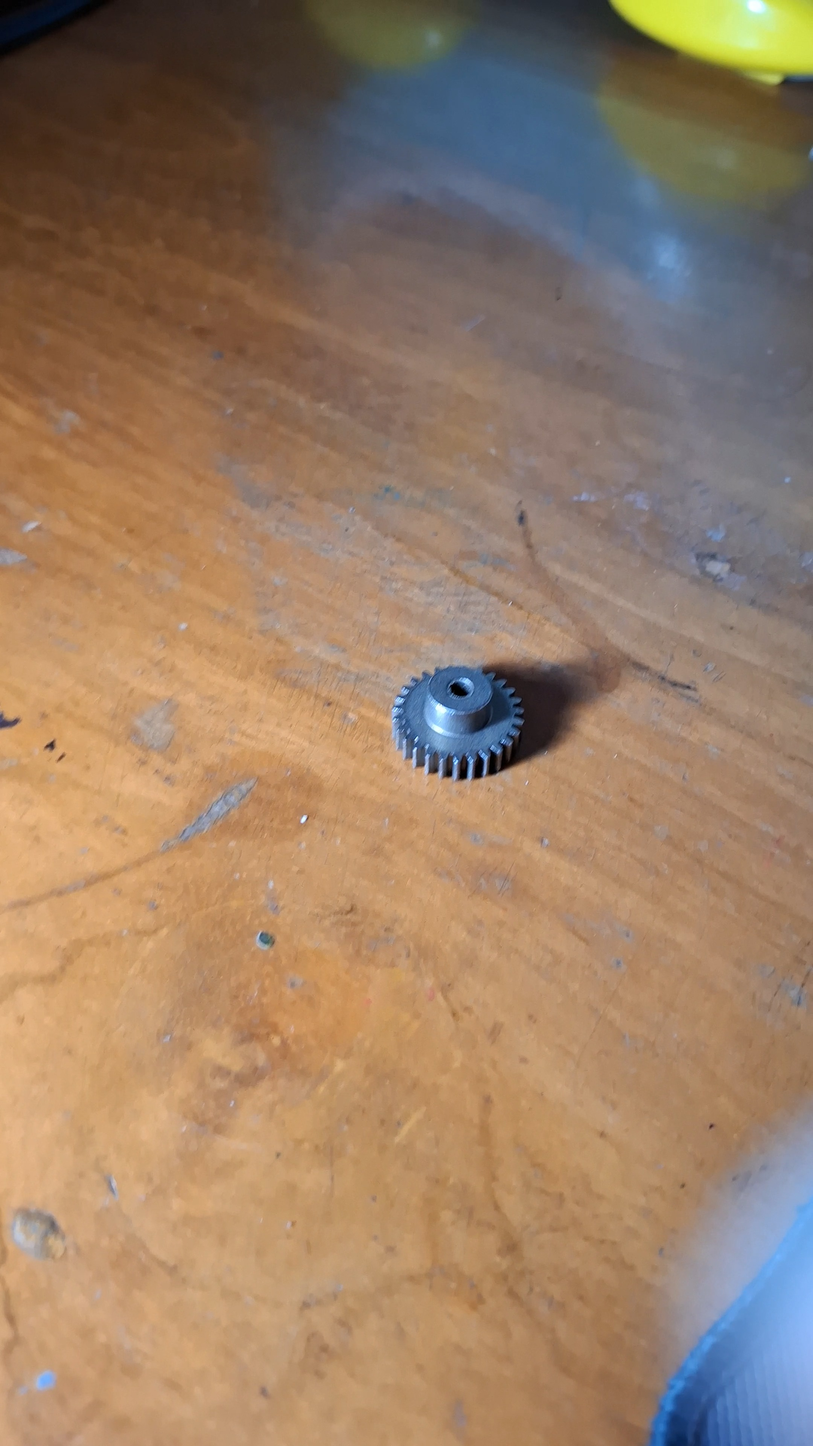spur gear: (392, 666, 523, 779)
